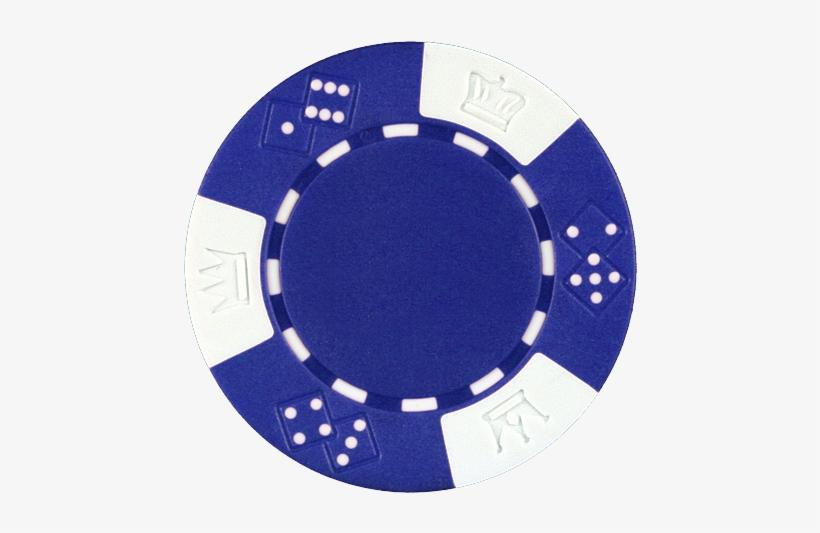chip-blue: (186, 43, 636, 492)
